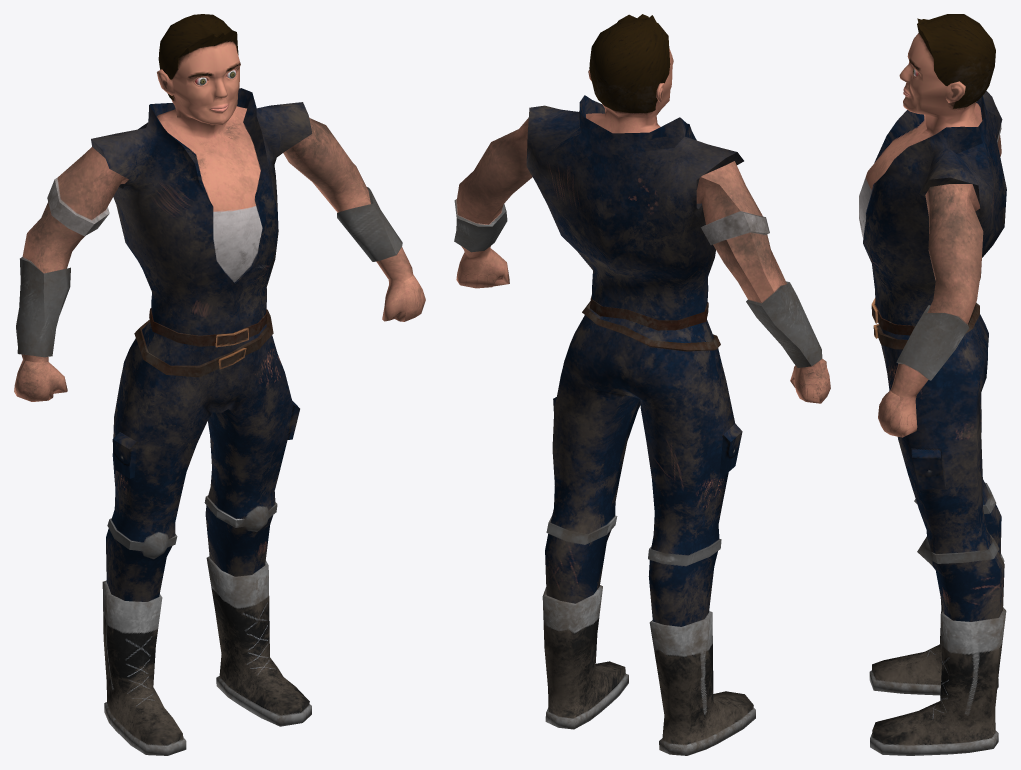
File: Anim_idle_jugador.0023.obj
3 views of the same model, side by side, from view 1: azimuth 30°, elevation 25°; view 2: azimuth 150°, elevation 25°; view 3: azimuth 270°, elevation 25° (orthographic).
Visible parts, largest first — view 1: polySurface1; view 2: polySurface1; view 3: polySurface1.
Boxes of the visible parts, x1,y1,x2,y2 form: polySurface1: (14, 14, 425, 755); polySurface1: (454, 14, 830, 755); polySurface1: (859, 14, 1006, 755).
Size of the model in its own units: 5.62 by 9.66 by 1.85.
